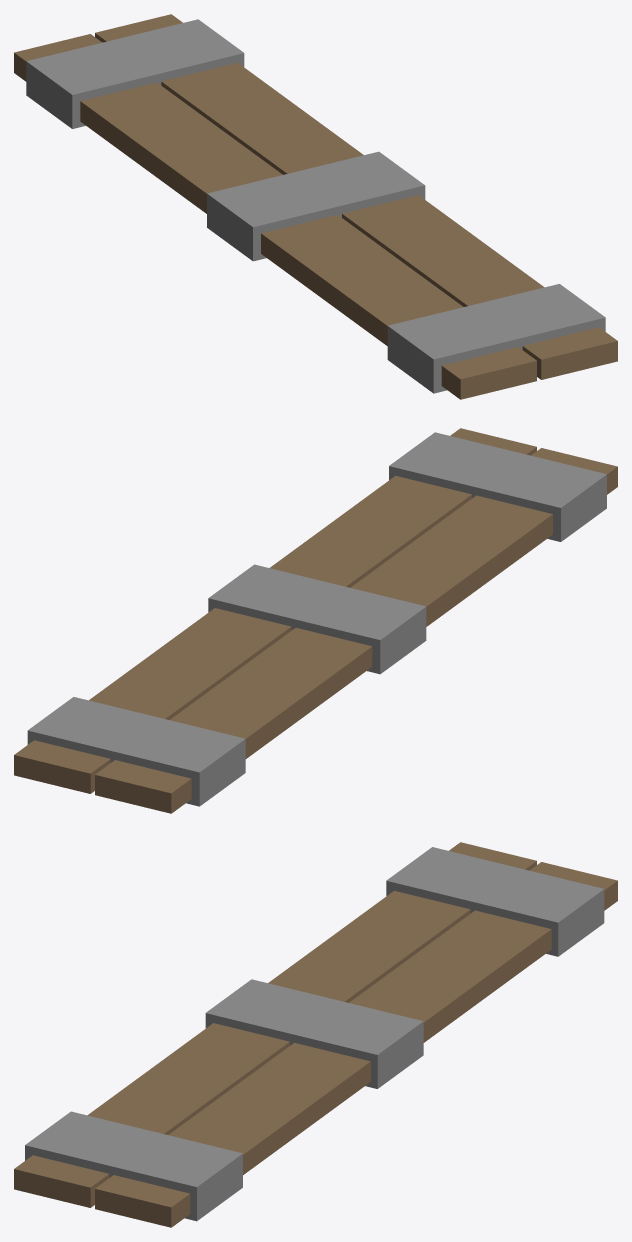
File: SM_wooden_planks_01.fbx
3 views of the same model, one above another, from view 1: azimuth 30°, elevation 25°; view 2: azimuth 150°, elevation 25°; view 3: azimuth 330°, elevation 25° (orthographic).
Visible parts, largest first — view 1: wooden_planks_01; view 2: wooden_planks_01; view 3: wooden_planks_01.
Boxes of the visible parts, box(x1,y1,x2,y2) form: wooden_planks_01: box(14, 14, 617, 399); wooden_planks_01: box(14, 428, 617, 813); wooden_planks_01: box(14, 842, 617, 1227).
Size of the model in its own units: 44.76 by 8.49 by 201.
